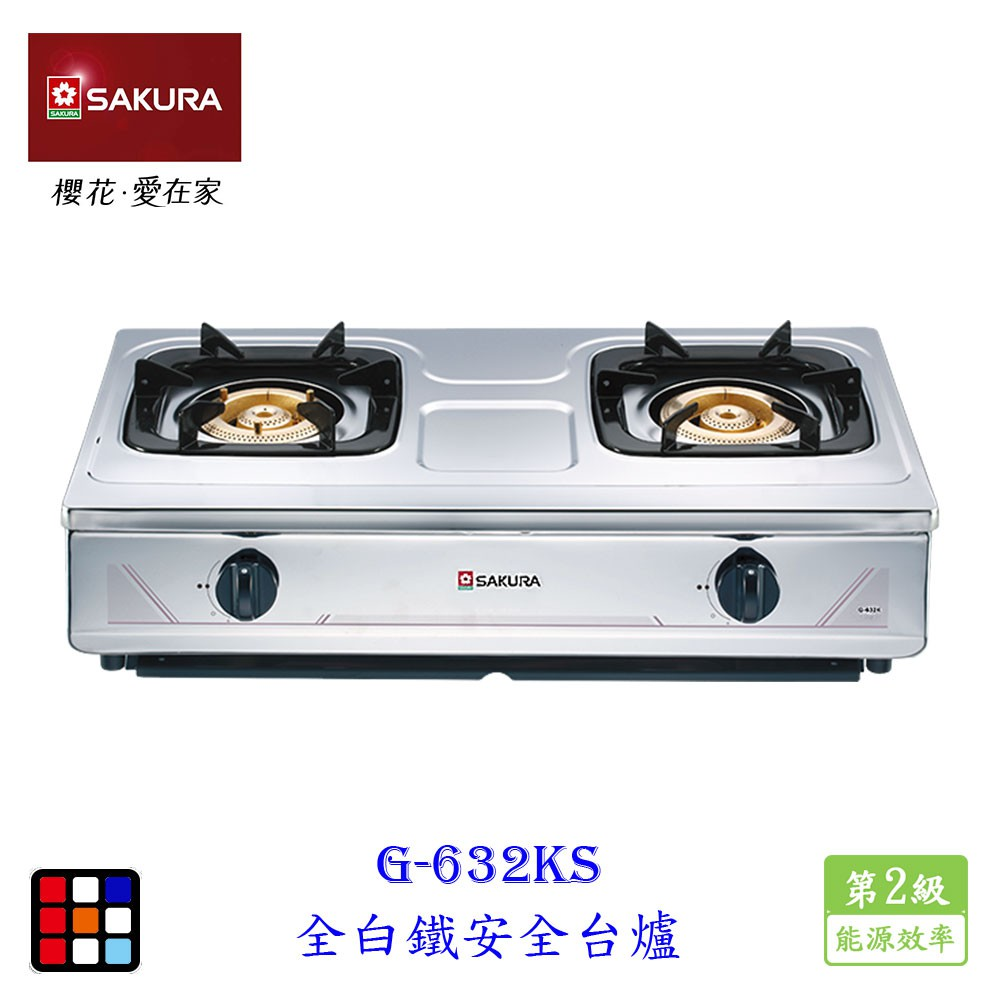gasoven: (59, 312, 949, 696)
